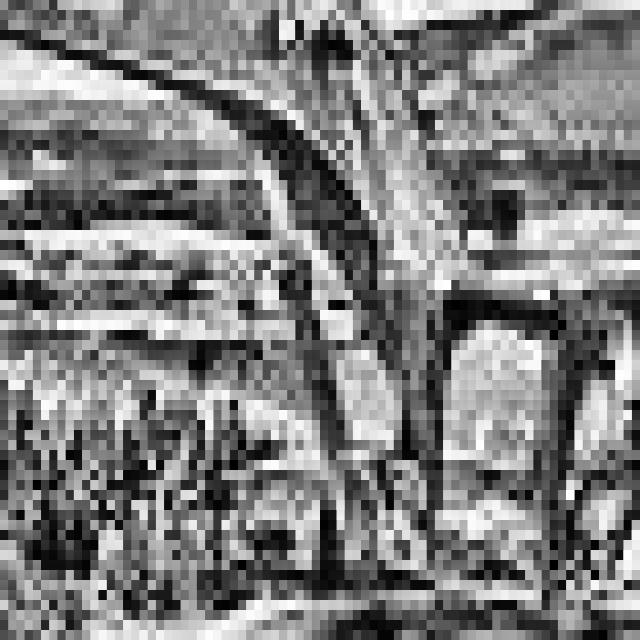excavator: (213, 160, 640, 640)
